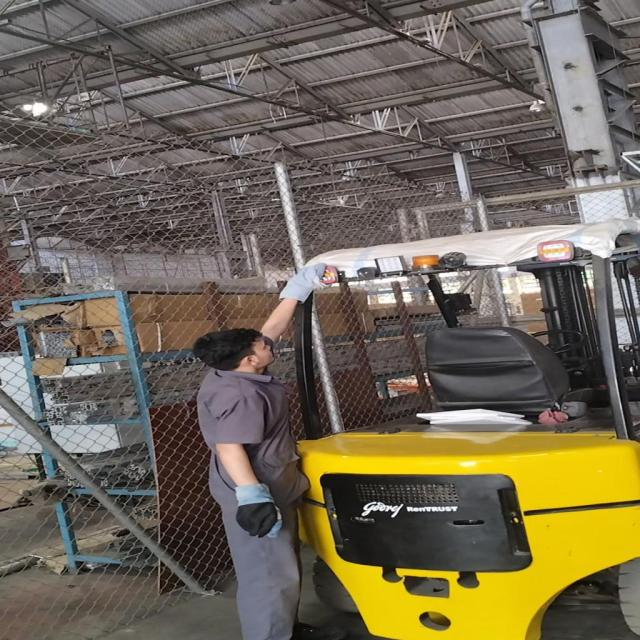Gloves-Detection: (230, 482, 282, 542), (274, 256, 326, 306)
